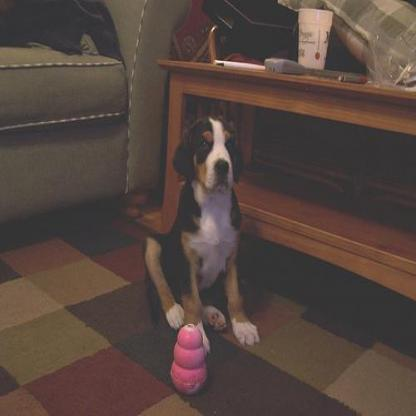Greater_Swiss_Mountain_dog: (143, 111, 261, 357)
